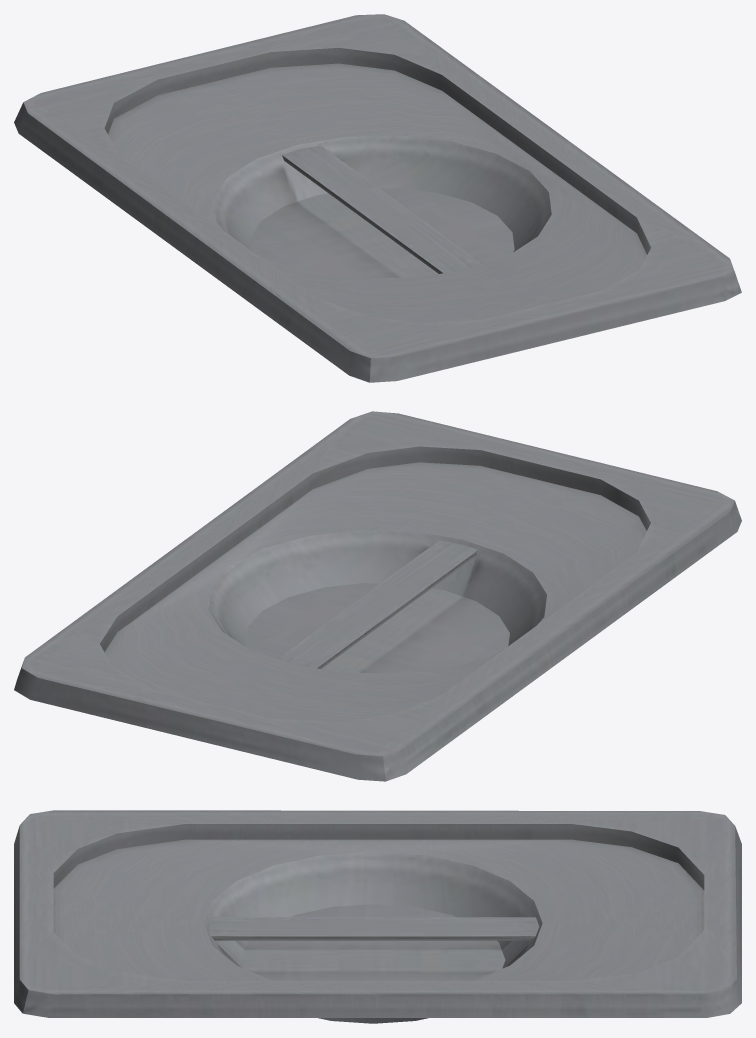
The model's file is SM_Hotel_Pan_1_4_Lid_01.glb.
3 views of the same model, one above another, from view 1: azimuth 30°, elevation 25°; view 2: azimuth 150°, elevation 25°; view 3: azimuth 270°, elevation 25° (orthographic).
Visible parts, largest first — view 1: SM_Hotel_Pan_1_4_Lid_01; view 2: SM_Hotel_Pan_1_4_Lid_01; view 3: SM_Hotel_Pan_1_4_Lid_01.
Boxes of the visible parts, bbox=[...] form: SM_Hotel_Pan_1_4_Lid_01: bbox=[14, 14, 741, 382]; SM_Hotel_Pan_1_4_Lid_01: bbox=[14, 411, 741, 781]; SM_Hotel_Pan_1_4_Lid_01: bbox=[14, 810, 741, 1023].
Bounding box in the file's own units: 0.1654 × 0.0255 × 0.2698.
1 material, 1 textured.
